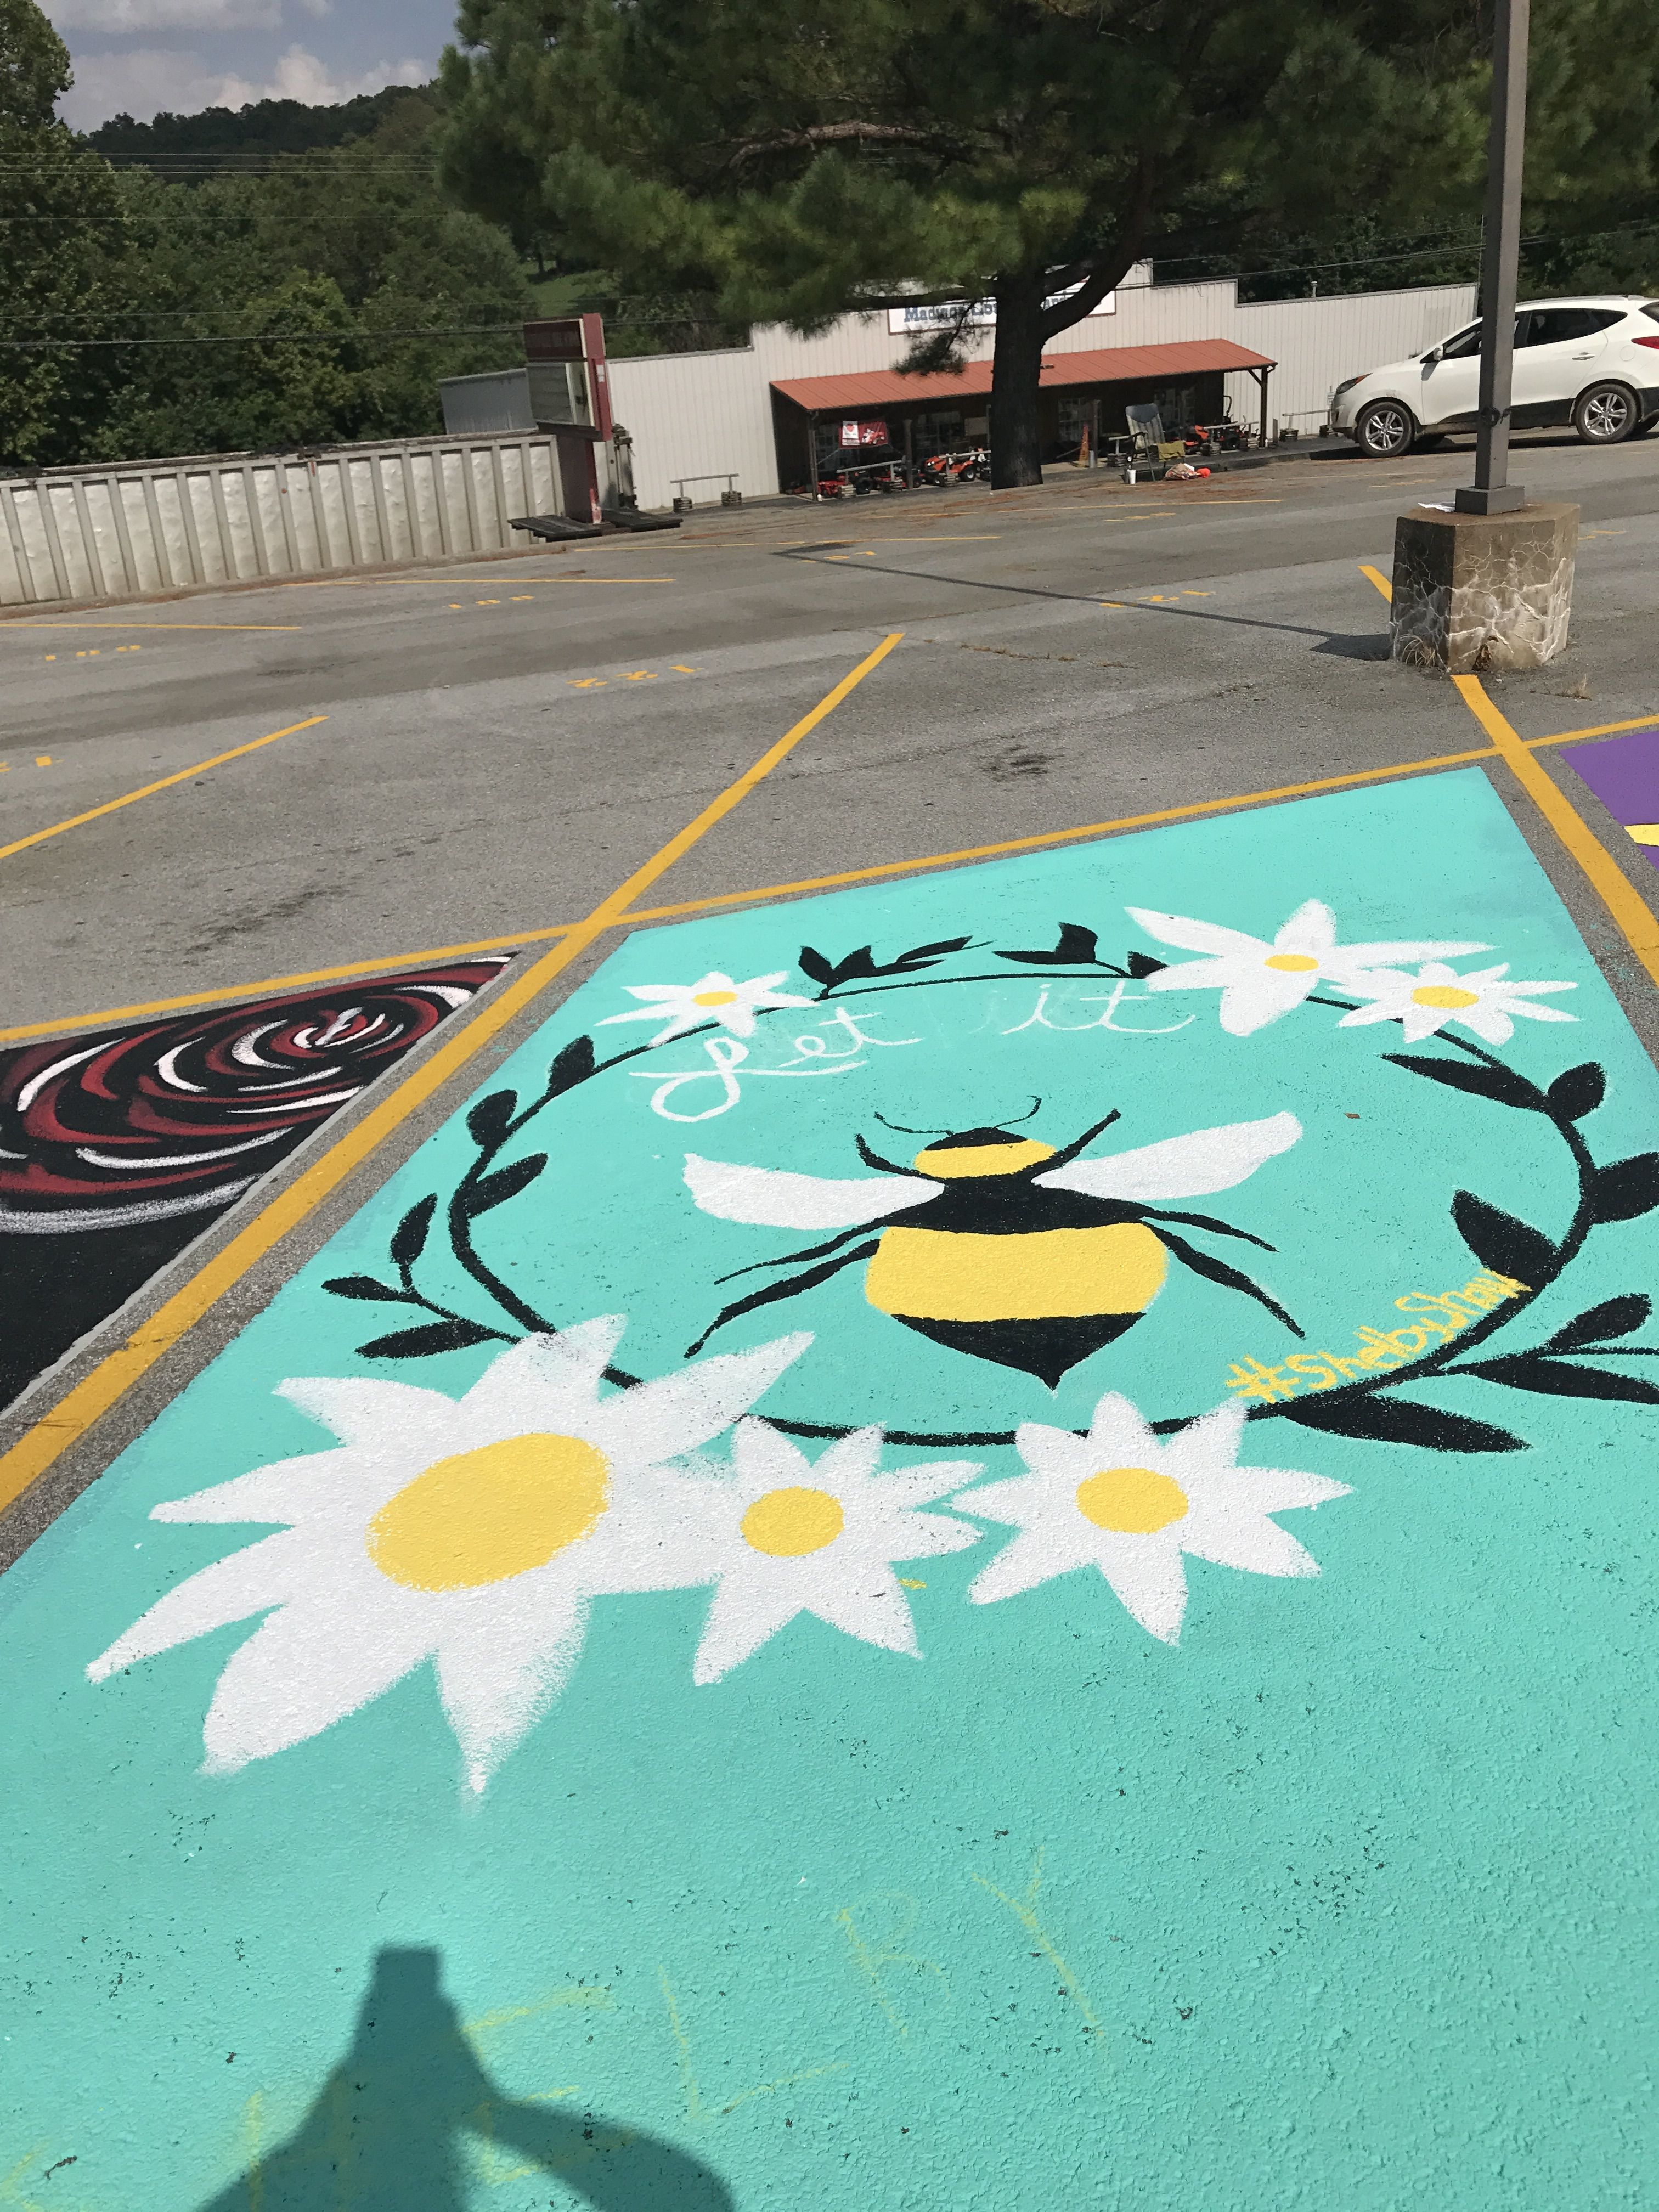car: (1349, 296, 1659, 456)
